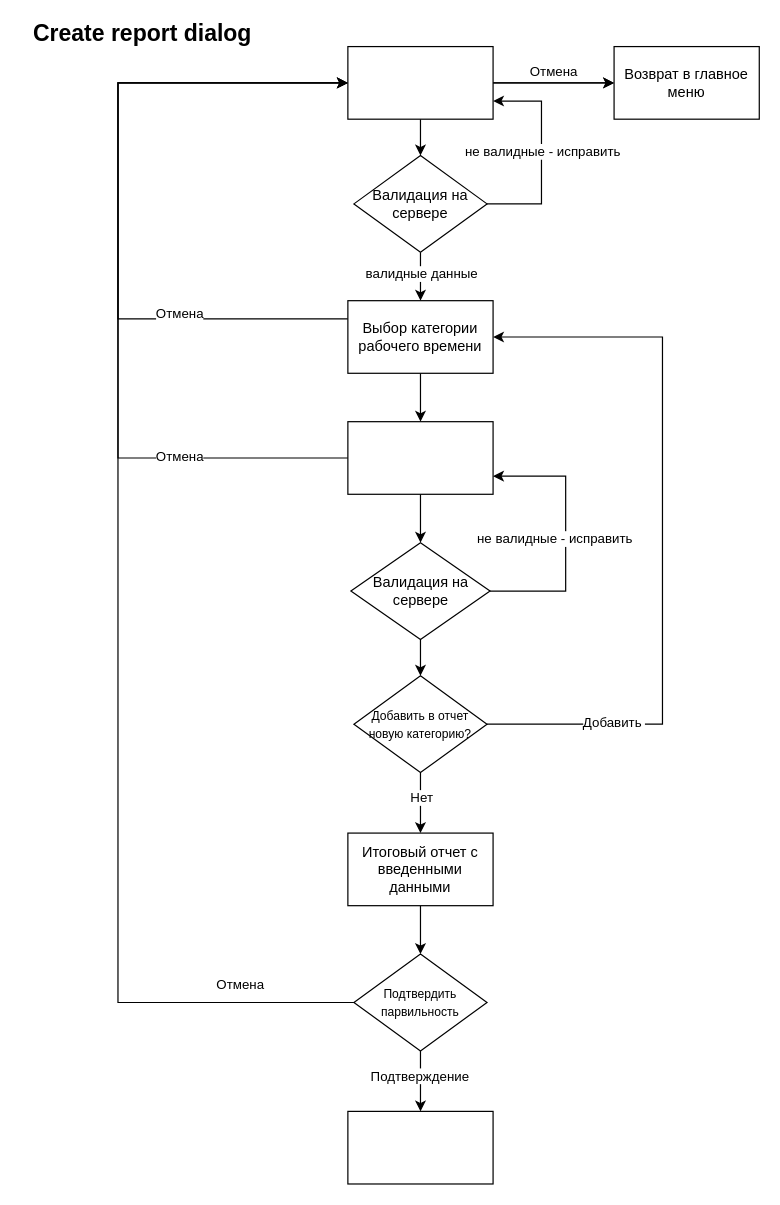
Image size: 780x1205. Some labels were removed from this diagram. The shapes that lost their labels are listed below. From the top down, each one's centre as x and y in pixels, then its label:
point (420, 82): Ввод даты / по дефолту текущий день
point (420, 457): Ввод рабочих часов согласно выбранного типа
point (420, 1147): Сообщение "Отчет успешно добавлен" - Конец диалога
